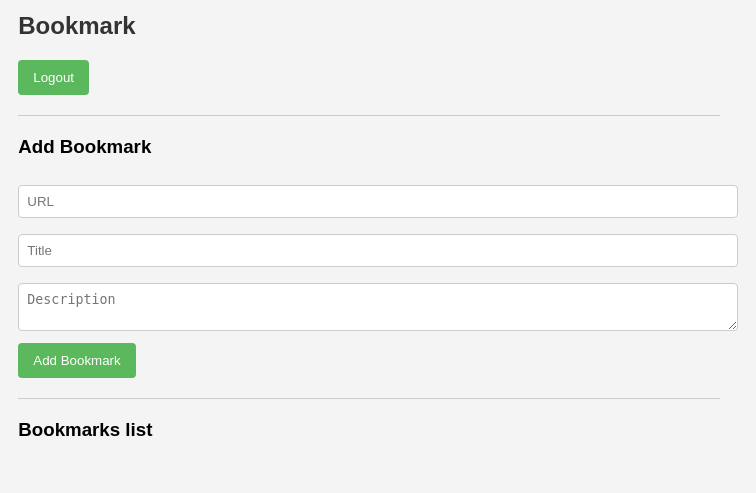
ブックマーク操作 › 追加に失敗したらエラーを表示する
Expected: the heading "Bookmarks list" is shown, [18,418,152,440]
In the field with placeholder "URL": (378, 201) [18,184,738,218], type "https://new.example"
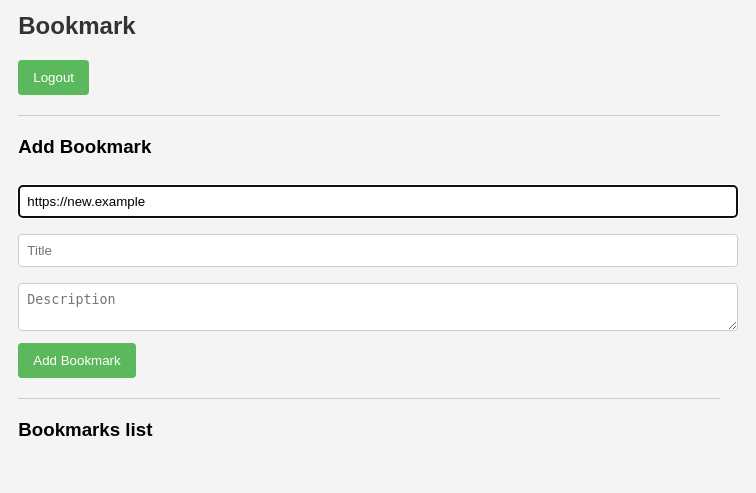
In the field with placeholder "Title": (378, 250) [18,234,738,266], type "New one"
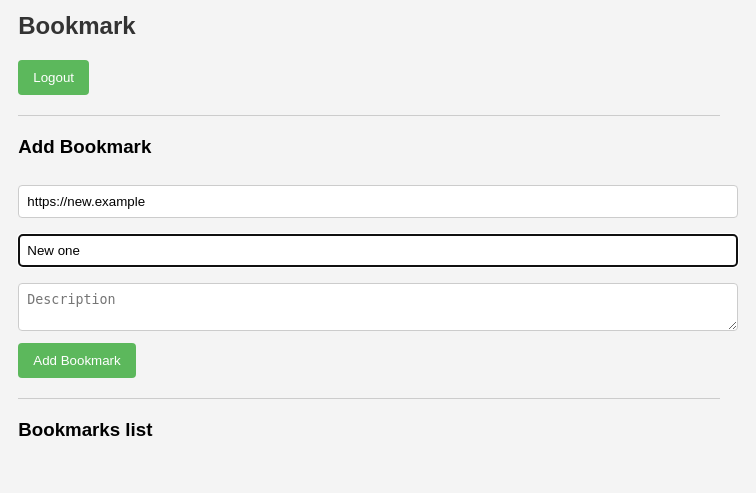
In the text box with placeholder "Description": (378, 306) [18,282,738,330], type "desc"
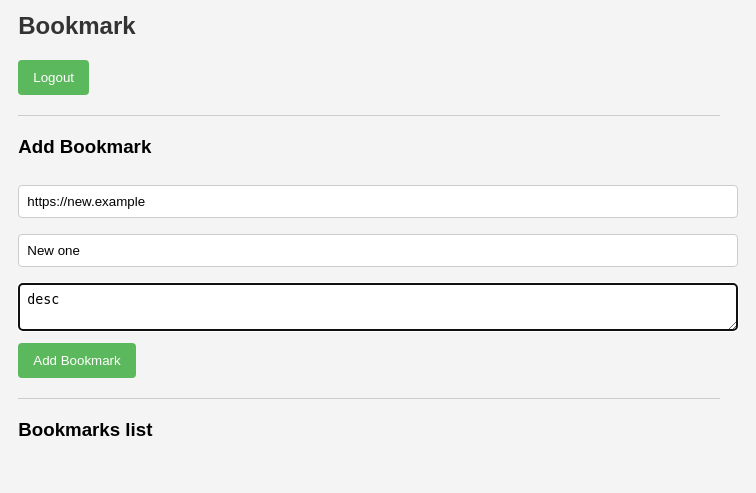
Click the button "Add Bookmark": (77, 360) [18,342,136,378]
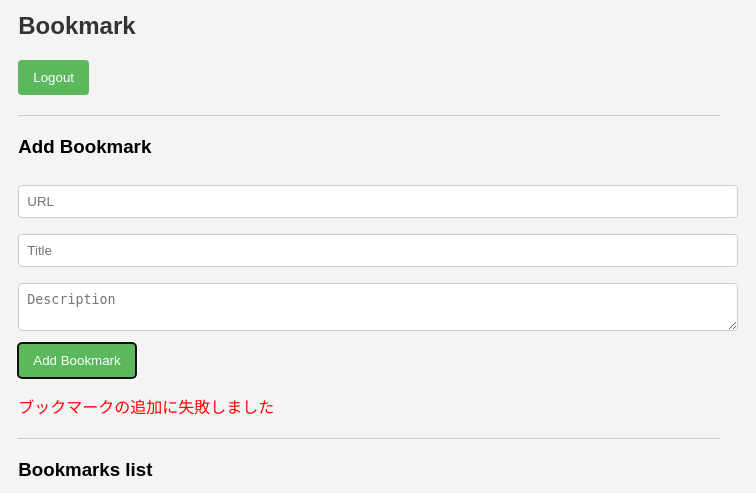
Expected: the text "New one" is not shown
Expected: the message reads "ブックマークの追加に失敗しました", [18,398,274,416]
